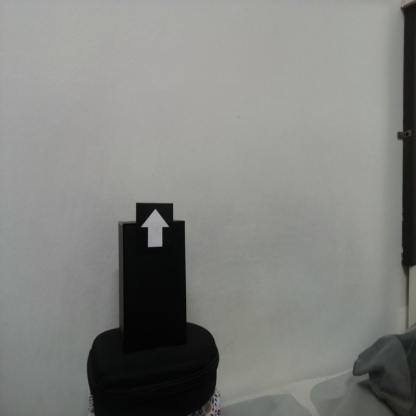id_1: (136, 204, 174, 255)
